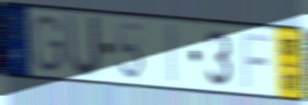3: (204, 28, 232, 88)
5: (116, 19, 147, 81)
F: (239, 31, 273, 91)
G: (30, 13, 67, 75)
I: (168, 23, 178, 86)
U: (64, 11, 103, 80)
